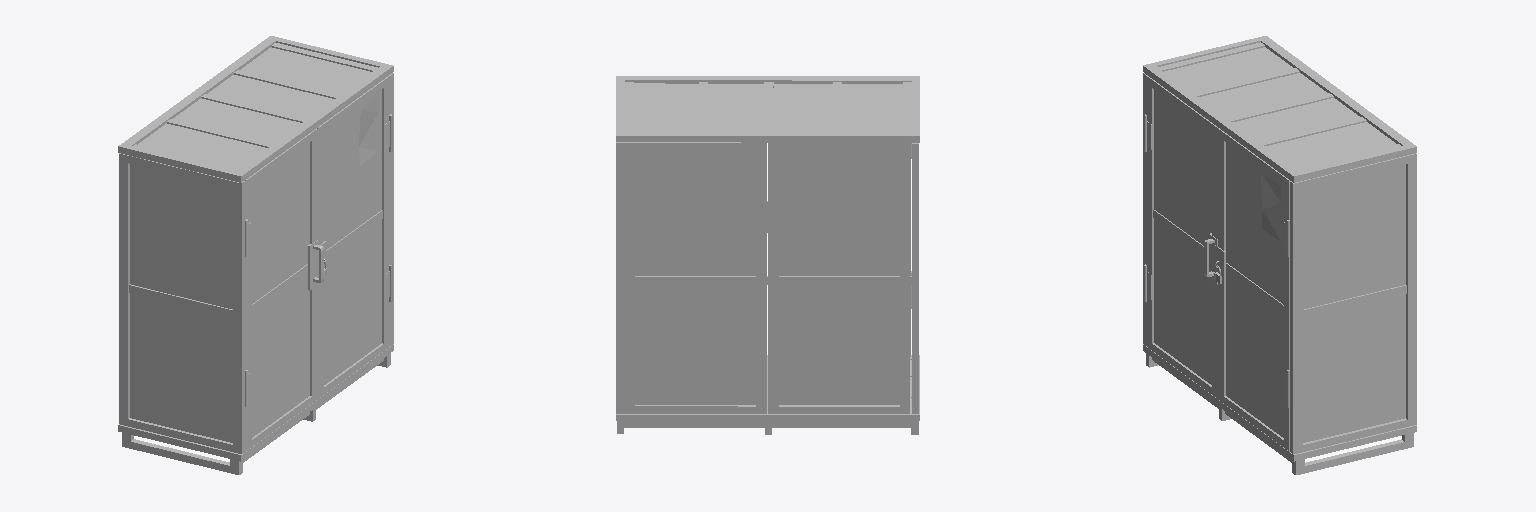
Rendered from LockerStatic.obj.
The picture shows the model from 3 angles: view 1: azimuth 30°, elevation 25°; view 2: azimuth 150°, elevation 25°; view 3: azimuth 270°, elevation 25°; orthographic projection.
Visible parts, largest first — view 1: Locker_Static.002_SM_Locker_06a.002; view 2: Locker_Static.002_SM_Locker_06a.002; view 3: Locker_Static.002_SM_Locker_06a.002.
Part boxes in pixels (x1,y1,x2,y2): Locker_Static.002_SM_Locker_06a.002: (118,36,393,474); Locker_Static.002_SM_Locker_06a.002: (616,76,919,434); Locker_Static.002_SM_Locker_06a.002: (1143,36,1416,474).
Bounding box in the file's own units: 1.94 × 1.92 × 1.6.